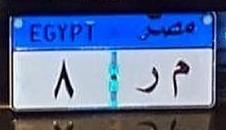8: (49, 58, 80, 101)
meem: (168, 57, 191, 98)
raa: (132, 62, 163, 100)
